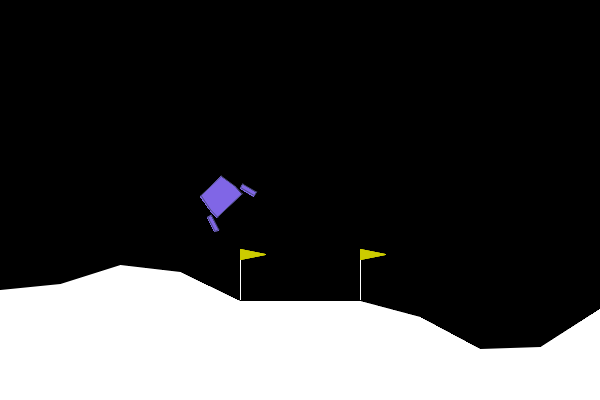lander: (187, 164, 259, 234)
